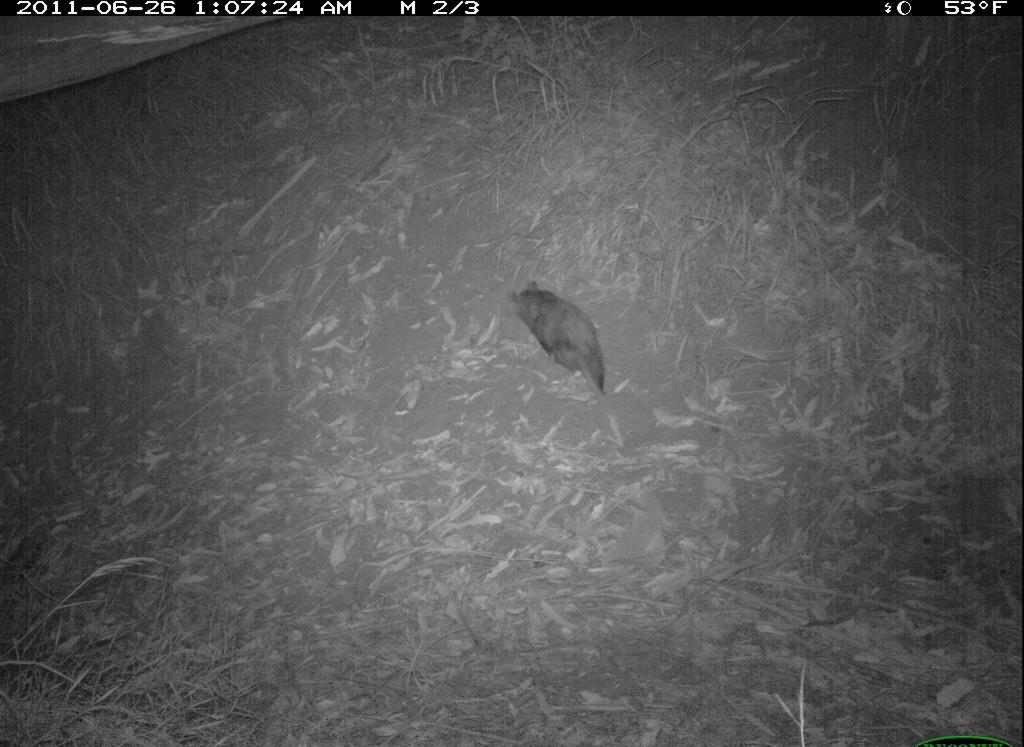opossum: (495, 271, 634, 399)
